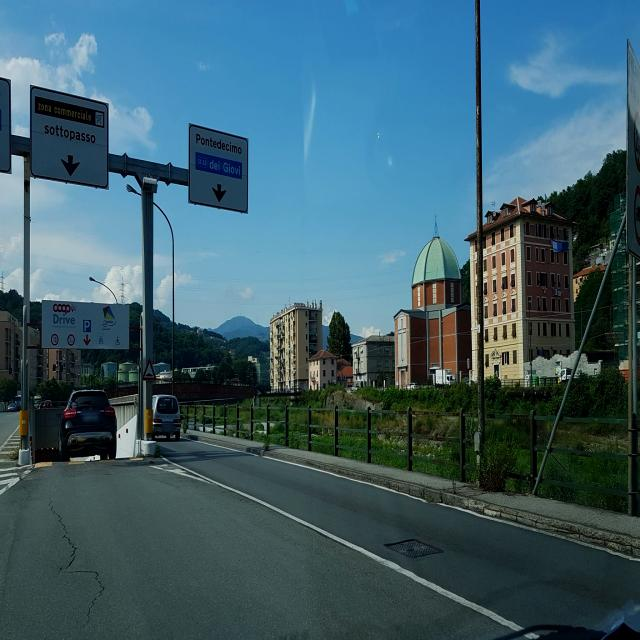car: (58, 386, 118, 462), (151, 394, 182, 442)
